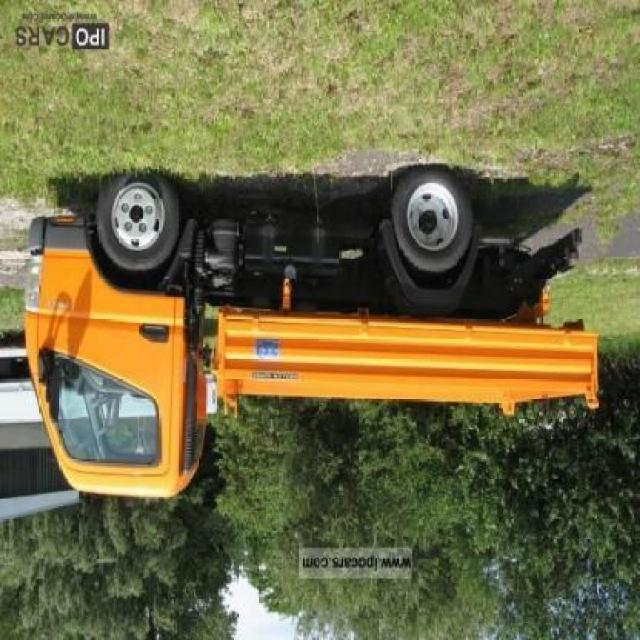truck: (25, 171, 603, 497)
